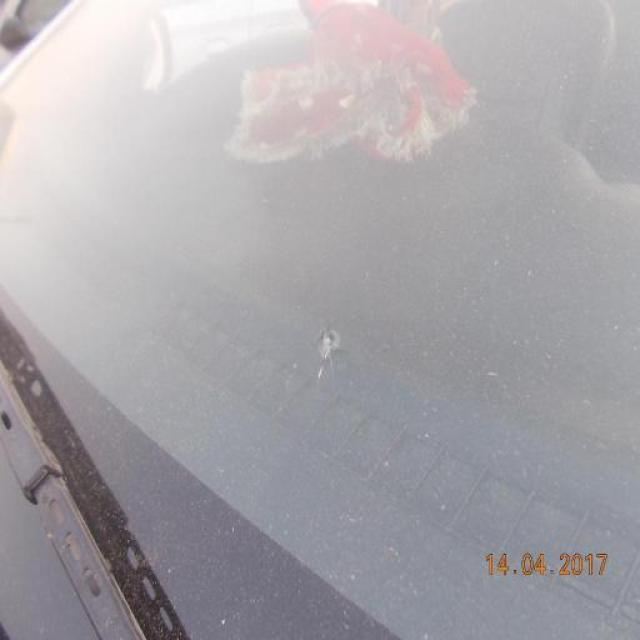crack: (308, 318, 348, 372)
